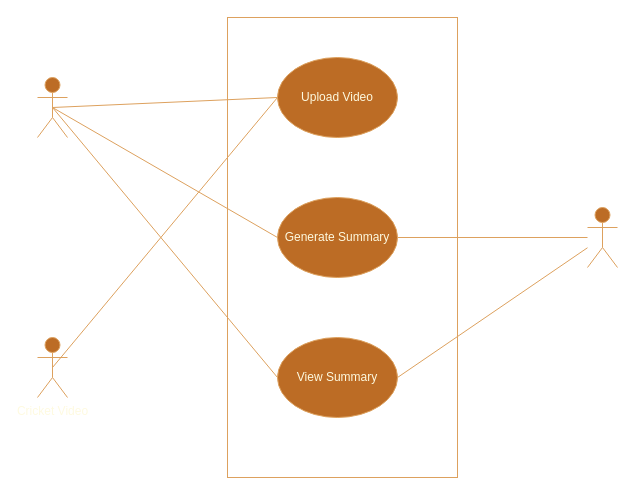
Image size: 640x495. Some labels were removed from this diagram. The shapes that lost their labels are listed below. From the top down, each one's box as (x1, y1, x2, y2) in pixels, then its label:
(36, 76, 68, 138): User
(586, 206, 618, 268): System
